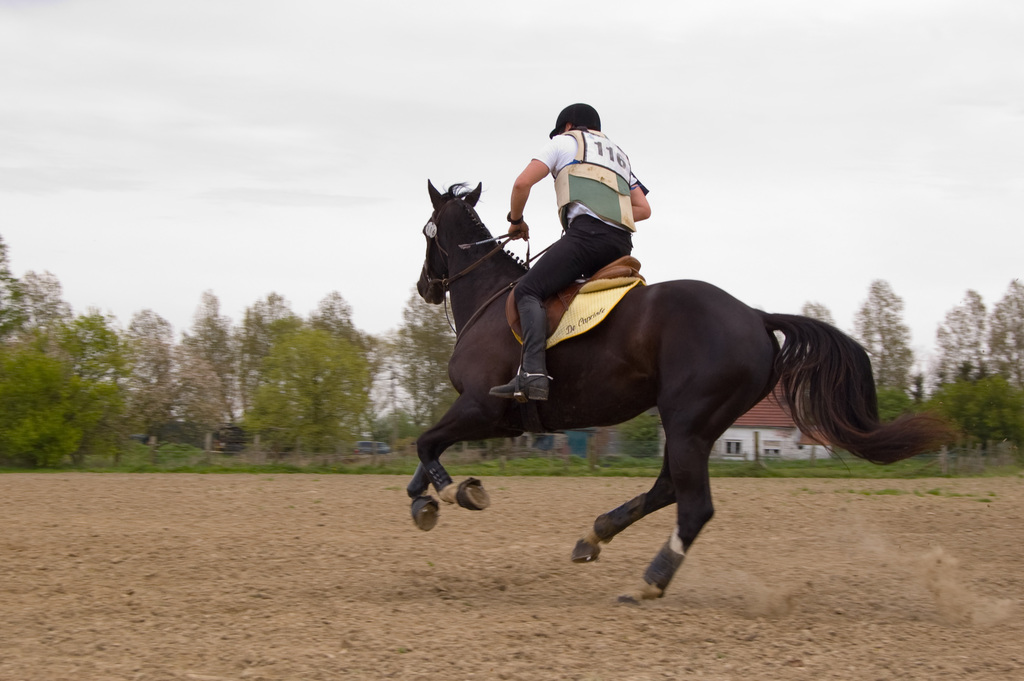horse: (405, 178, 954, 606)
